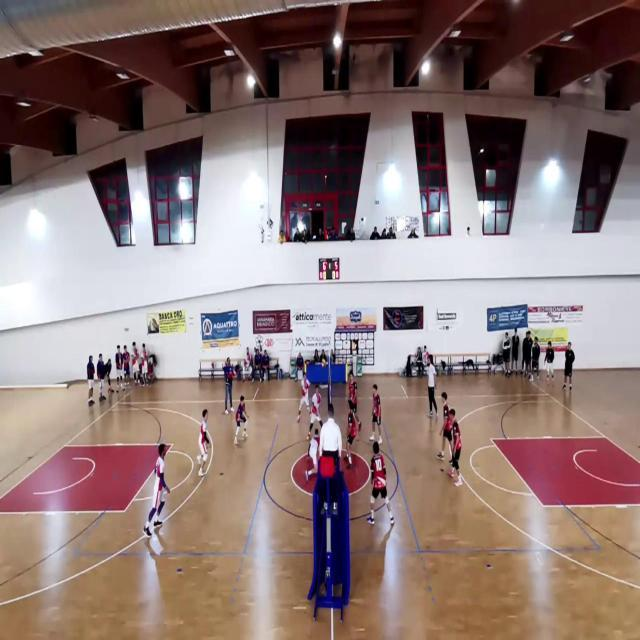volleyball: (321, 358, 326, 368)
